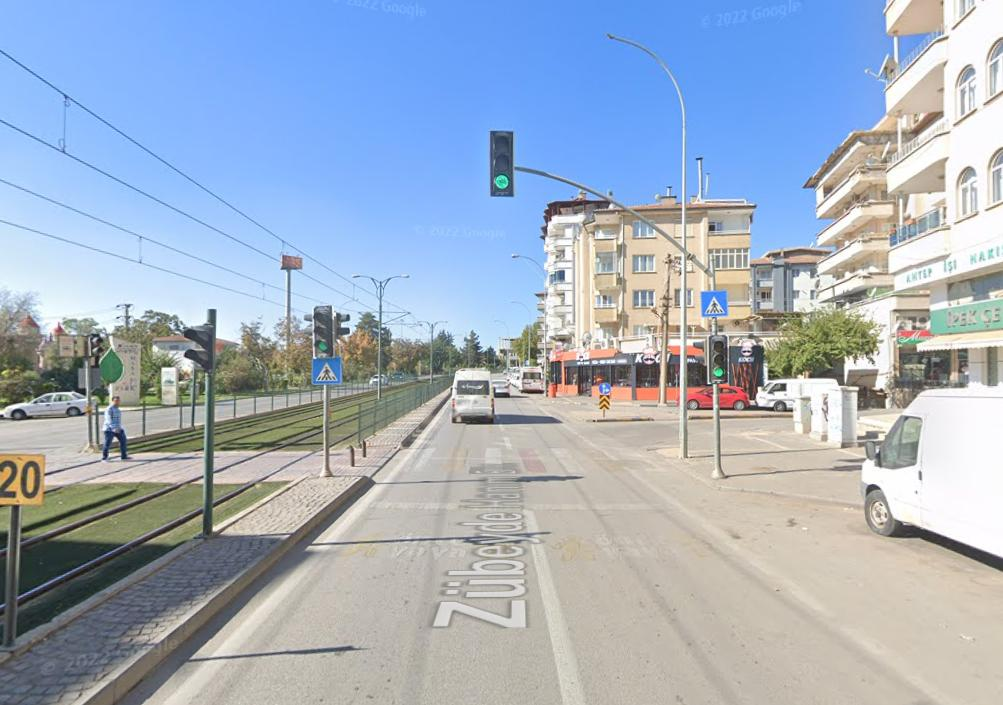greenlight: (489, 128, 516, 194), (310, 304, 334, 354), (709, 332, 730, 383)
